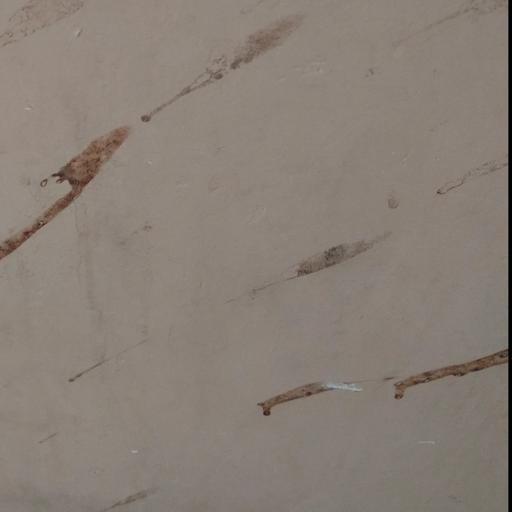stain: (219, 177, 437, 334), (241, 349, 512, 445), (140, 9, 314, 153), (0, 116, 142, 279), (57, 300, 186, 416)
